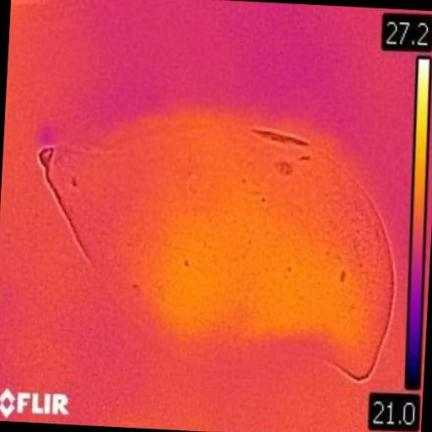mango: (45, 116, 393, 376)
